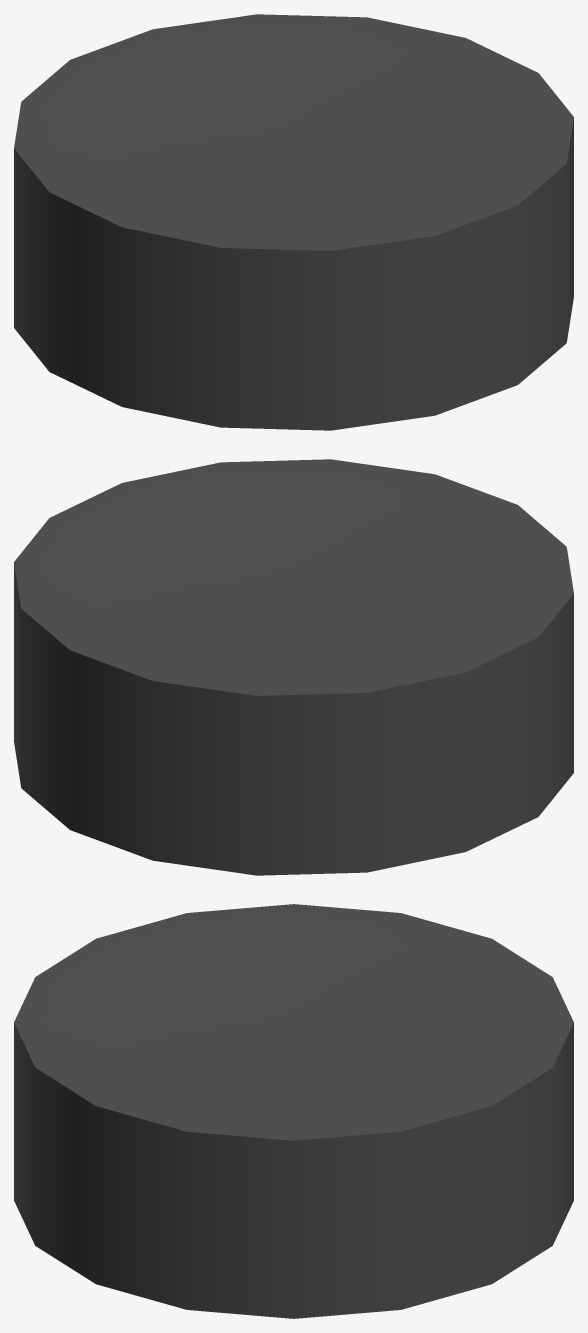
The model's file is Stylus_Menu.obj.
3 views of the same model, one above another, from view 1: azimuth 30°, elevation 25°; view 2: azimuth 150°, elevation 25°; view 3: azimuth 270°, elevation 25° (orthographic).
Parts seen in each view (by area): view 1: Stylus_Menu_Menu; view 2: Stylus_Menu_Menu; view 3: Stylus_Menu_Menu.
Boxes of the visible parts, left/top/right/bottom form: Stylus_Menu_Menu: left=14, top=14, right=573, bottom=430; Stylus_Menu_Menu: left=14, top=459, right=573, bottom=875; Stylus_Menu_Menu: left=14, top=904, right=573, bottom=1318.
Bounding box in the file's own units: 0.00569 × 0.002 × 0.00569.
Materials: 1 (1 with a texture image).
